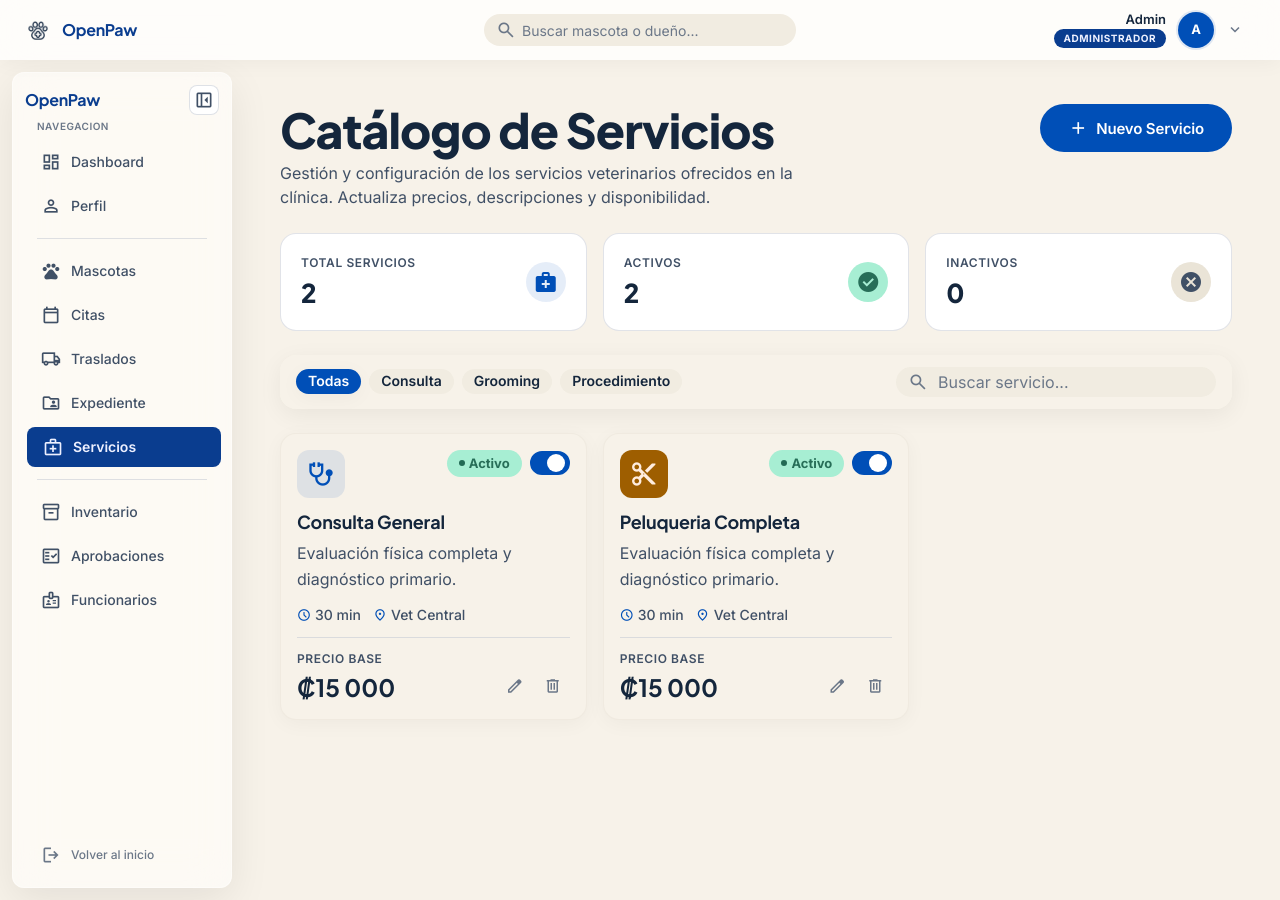
Test: ServiciosVeterinariaPage - rediseno catalogo con grid, toggle y busqueda (T31) › los chips de categoria filtran el grid
This screenshot has width=1280, height=900.
Expected: the heading "Consulta General" is shown, [297,510,445,533]
Click the button "Grooming": point(507, 382) [462,369,552,394]
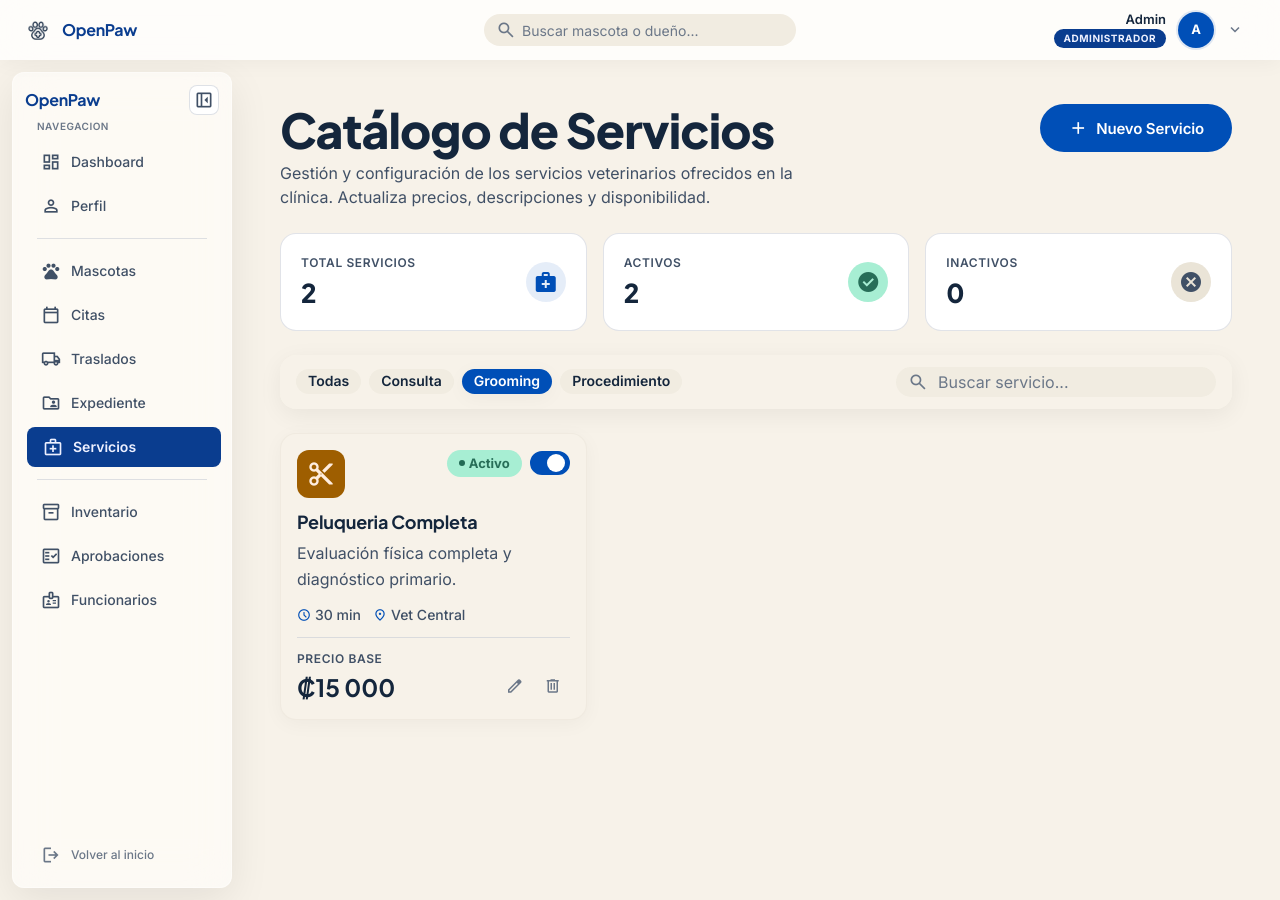
Expected: the heading "Peluqueria Completa" is shown, [297,510,477,533]
Now the heading "Consulta General" is gone
volver a Todas restaura la grilla completa
Click the button "Todas": point(329, 382) [296,369,361,394]
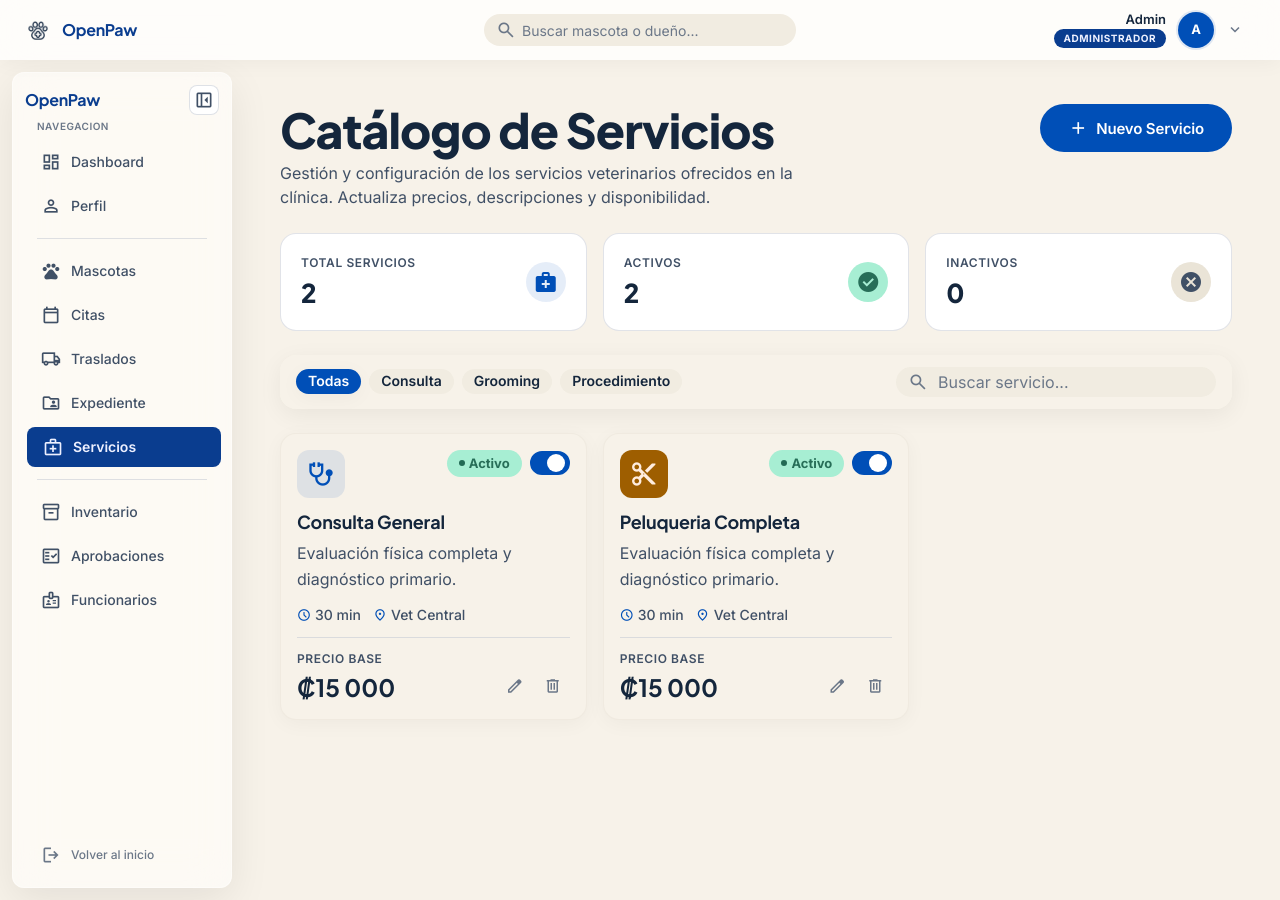
Now the heading "Consulta General" is shown, box [297,510,445,533]
